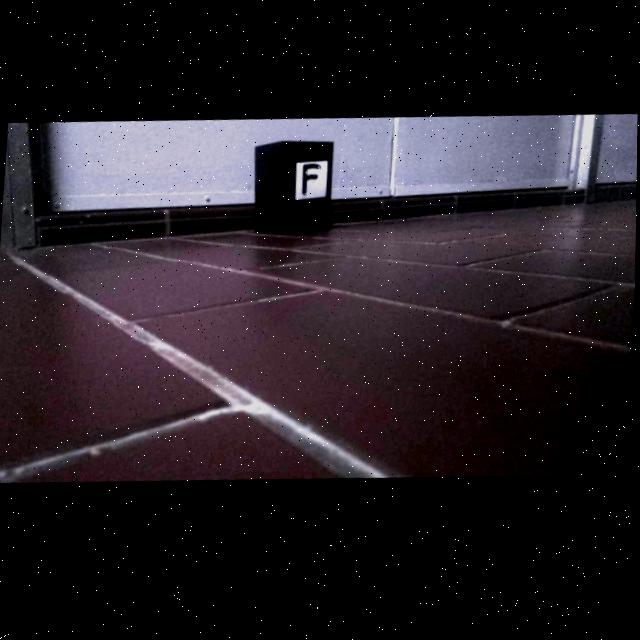F: (303, 169, 321, 199)
